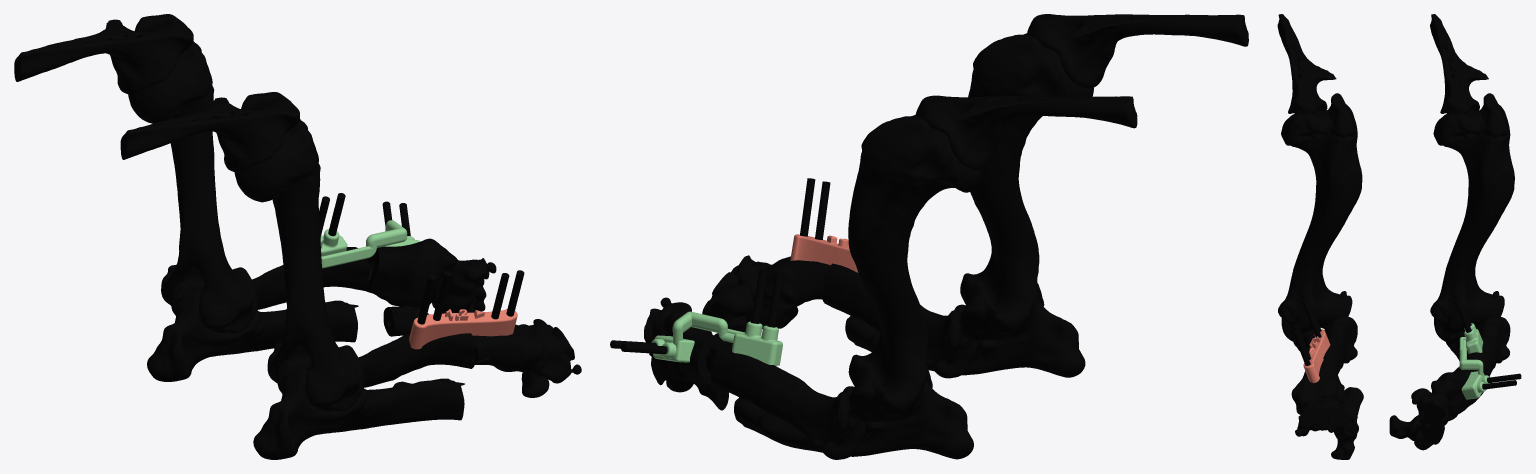
The model's file is GuiaQRP2LP.glb.
3 renders of one model, left to right at view 1: azimuth 30°, elevation 25°; view 2: azimuth 150°, elevation 25°; view 3: azimuth 270°, elevation 25°, orthographic. The views are drawn at different scales.
Visible parts, largest first — view 1: guia qr salchica p2, guia qr salchica p1; view 2: guia qr salchica p1, guia qr salchica p2; view 3: guia qr salchica p1, guia qr salchica p2.
Boxes of the visible parts, x1=… form: guia qr salchica p2: x1=120, y1=92, x2=581, y2=459; guia qr salchica p1: x1=14, y1=14, x2=496, y2=381; guia qr salchica p1: x1=610, y1=95, x2=1137, y2=459; guia qr salchica p2: x1=702, y1=14, x2=1248, y2=378; guia qr salchica p1: x1=1389, y1=14, x2=1521, y2=450; guia qr salchica p2: x1=1277, y1=14, x2=1363, y2=459.
Size of the model in its own units: 10.62 by 8.73 by 6.66.
